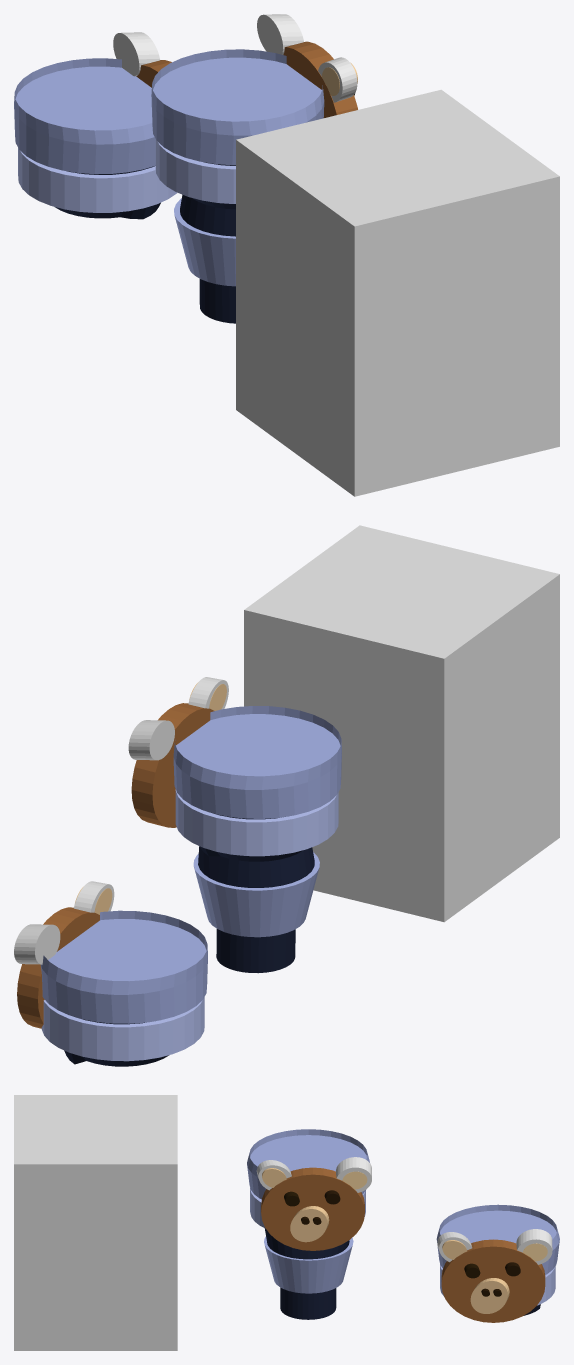
Rendered from tumbler.glb.
The picture shows the model from 3 angles, top to bottom: view 1: azimuth 30°, elevation 25°; view 2: azimuth 150°, elevation 25°; view 3: azimuth 270°, elevation 25°; orthographic projection. The views are drawn at different scales.
Parts seen in each view (by area): view 1: Cube, Cylinder.003, Cylinder.013, Cylinder.014, Cylinder.006, Cylinder.017, Cylinder.008, Cylinder.007, Cylinder.001; view 2: Cube, Cylinder.003, Cylinder.013, Cylinder.014, Cylinder.006, Cylinder.015, Cylinder.008, Cylinder.017, Cylinder.007, Cylinder.016, Cylinder.001; view 3: Cube, Cylinder.003, Cylinder.015, Cylinder.006, Cylinder.013, Cylinder.020, Cylinder.011, Cylinder.017, Cylinder.008, Cylinder.016, Cylinder.007, Cylinder.014 (+4 smaller).
Boxes of the visible parts, <box> form: Cube: <box>236,89,559,496</box>; Cylinder.003: <box>151,49,324,323</box>; Cylinder.013: <box>14,58,155,174</box>; Cylinder.014: <box>18,148,176,212</box>; Cylinder.006: <box>283,41,357,117</box>; Cylinder.017: <box>113,32,159,76</box>; Cylinder.008: <box>257,14,303,54</box>; Cylinder.007: <box>318,57,357,102</box>; Cylinder.001: <box>55,166,160,219</box>; Cube: <box>244,525,559,922</box>; Cylinder.003: <box>173,706,341,973</box>; Cylinder.013: <box>40,910,207,1023</box>; Cylinder.014: <box>41,997,204,1061</box>; Cylinder.006: <box>131,703,214,827</box>; Cylinder.015: <box>17,907,99,1028</box>; Cylinder.008: <box>128,720,174,760</box>; Cylinder.017: <box>14,924,60,964</box>; Cylinder.007: <box>188,677,228,709</box>; Cylinder.016: <box>74,881,114,912</box>; Cylinder.001: <box>64,1019,169,1066</box>; Cube: <box>14,1095,177,1350</box>; Cylinder.003: <box>247,1129,369,1319</box>; Cylinder.015: <box>441,1239,545,1322</box>; Cylinder.006: <box>261,1167,364,1250</box>; Cylinder.013: <box>436,1204,559,1274</box>; Cylinder.020: <box>470,1278,509,1313</box>; Cylinder.011: <box>290,1206,329,1242</box>; Cylinder.017: <box>516,1229,552,1264</box>; Cylinder.008: <box>336,1157,371,1192</box>; Cylinder.016: <box>437,1232,472,1262</box>; Cylinder.007: <box>256,1160,291,1190</box>; Cylinder.014: <box>440,1264,555,1305</box>.
Bounding box in the file's own units: 2 × 2.52 × 6.67.
